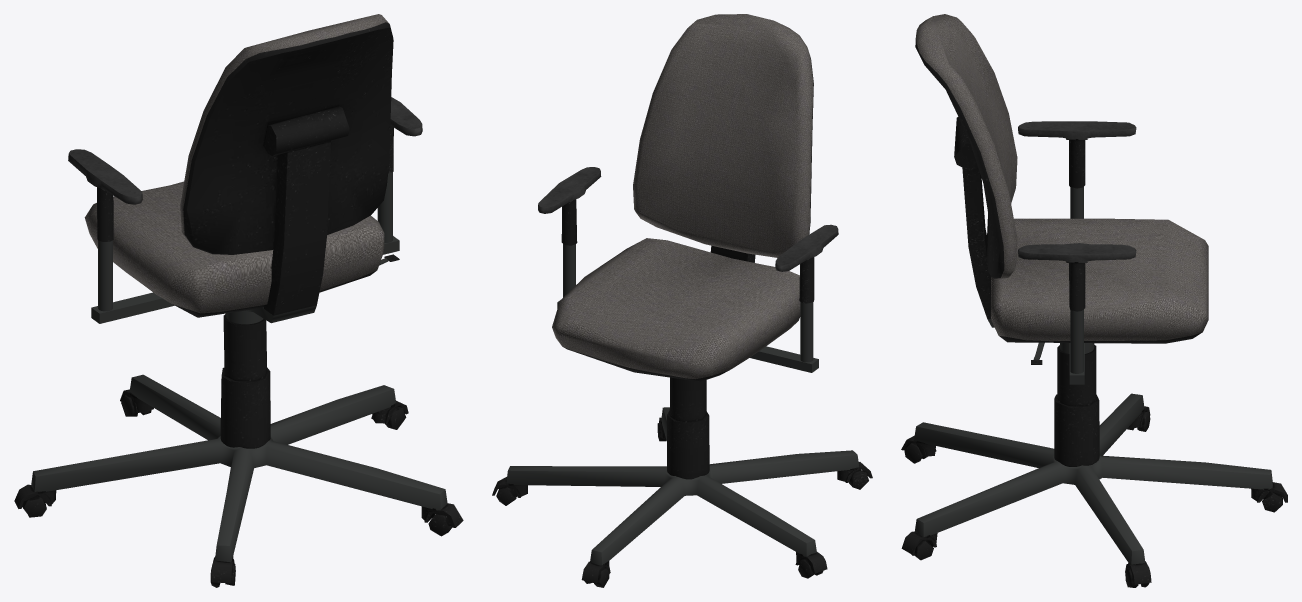
File: officeChair_hq.glb
The picture shows the model from 3 angles, left to right: view 1: azimuth 30°, elevation 25°; view 2: azimuth 150°, elevation 25°; view 3: azimuth 270°, elevation 25°; orthographic projection. The views are drawn at different scales.
Parts seen in each view (by area): view 1: OfficeChair_OfficeChairPlastic_0, OfficeChair_OfficeChairMetal_0, OfficeChair_OfficeChairCloth_0, OfficeChair_OfficeChairLeather_0; view 2: OfficeChair_OfficeChairCloth_0, OfficeChair_OfficeChairMetal_0, OfficeChair_OfficeChairPlastic_0, OfficeChair_OfficeChairLeather_0; view 3: OfficeChair_OfficeChairCloth_0, OfficeChair_OfficeChairMetal_0, OfficeChair_OfficeChairPlastic_0, OfficeChair_OfficeChairLeather_0.
Boxes of the visible parts, x1=… form: OfficeChair_OfficeChairPlastic_0: x1=14, y1=22, x2=463, y2=587; OfficeChair_OfficeChairMetal_0: x1=31, y1=172, x2=447, y2=562; OfficeChair_OfficeChairCloth_0: x1=84, y1=14, x2=389, y2=313; OfficeChair_OfficeChairLeather_0: x1=68, y1=97, x2=422, y2=204; OfficeChair_OfficeChairCloth_0: x1=552, y1=14, x2=813, y2=379; OfficeChair_OfficeChairMetal_0: x1=506, y1=244, x2=859, y2=565; OfficeChair_OfficeChairPlastic_0: x1=492, y1=54, x2=872, y2=587; OfficeChair_OfficeChairLeather_0: x1=538, y1=167, x2=838, y2=271; OfficeChair_OfficeChairCloth_0: x1=916, y1=14, x2=1208, y2=341; OfficeChair_OfficeChairMetal_0: x1=914, y1=187, x2=1272, y2=564; OfficeChair_OfficeChairPlastic_0: x1=901, y1=38, x2=1287, y2=587; OfficeChair_OfficeChairLeather_0: x1=1018, y1=121, x2=1136, y2=262.
Bounding box in the file's own units: 0.7733 × 0.9996 × 0.7361.
Materials: 4 (3 with a texture image).
